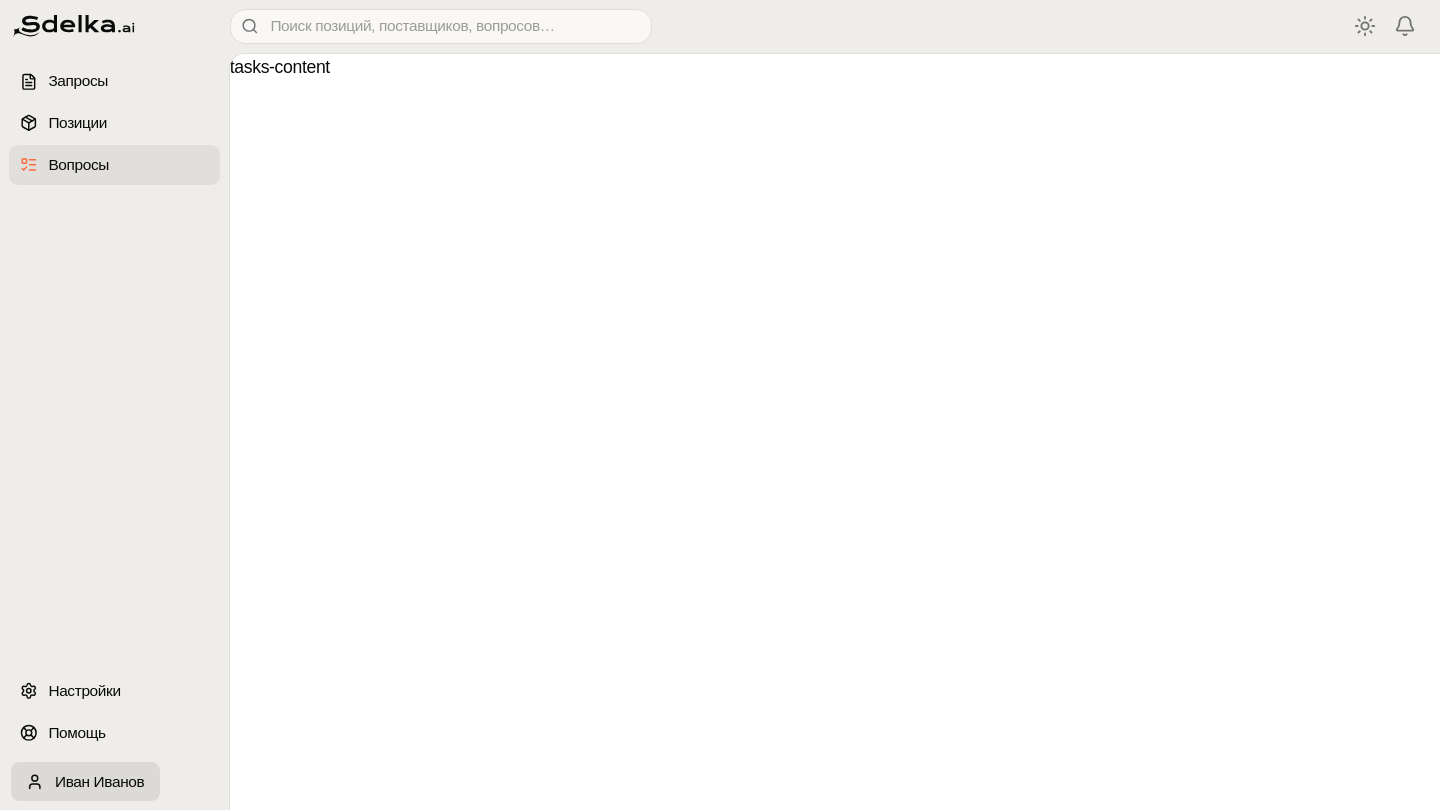
AppLayout — sidebar › logo links to /inquiries
Click the link named "На главную": (74, 26) [13,15,135,37]
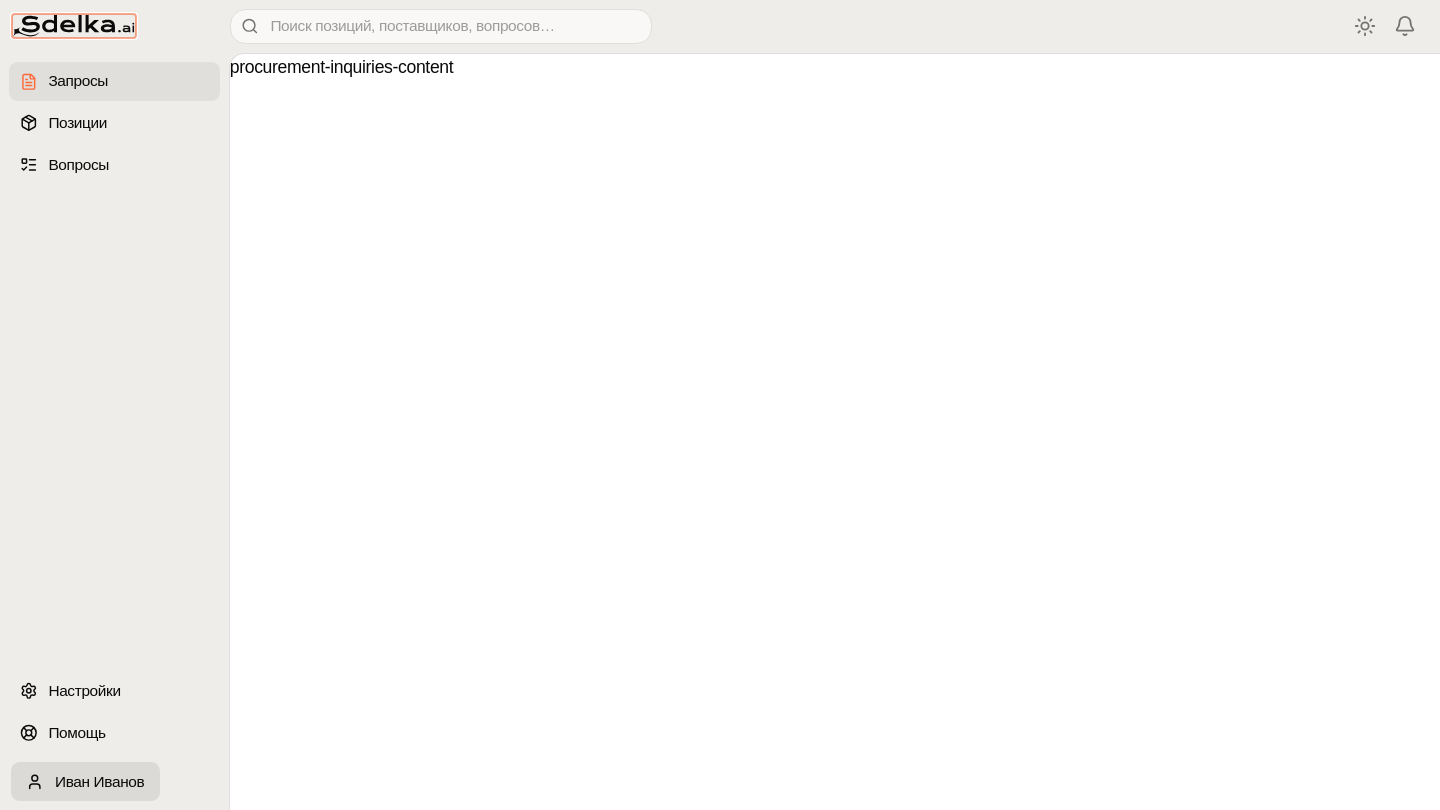
Result: the text "procurement-inquiries-content" is shown at [230,57,453,77]
